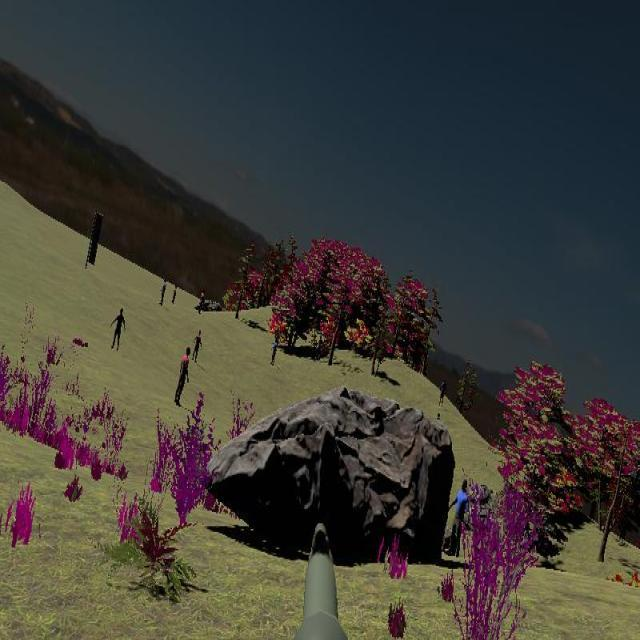Human: (444, 479, 470, 560), (444, 479, 470, 559), (174, 346, 191, 407)
